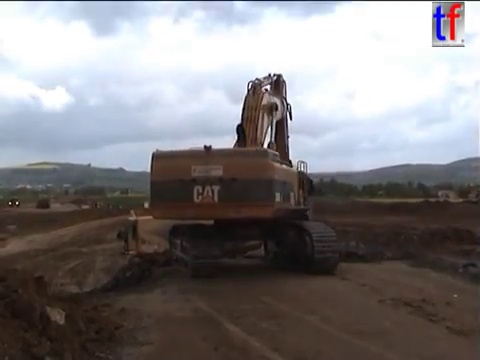excavator: (146, 70, 344, 282)
truck: (114, 211, 266, 291), (34, 196, 52, 210), (6, 195, 22, 208)
